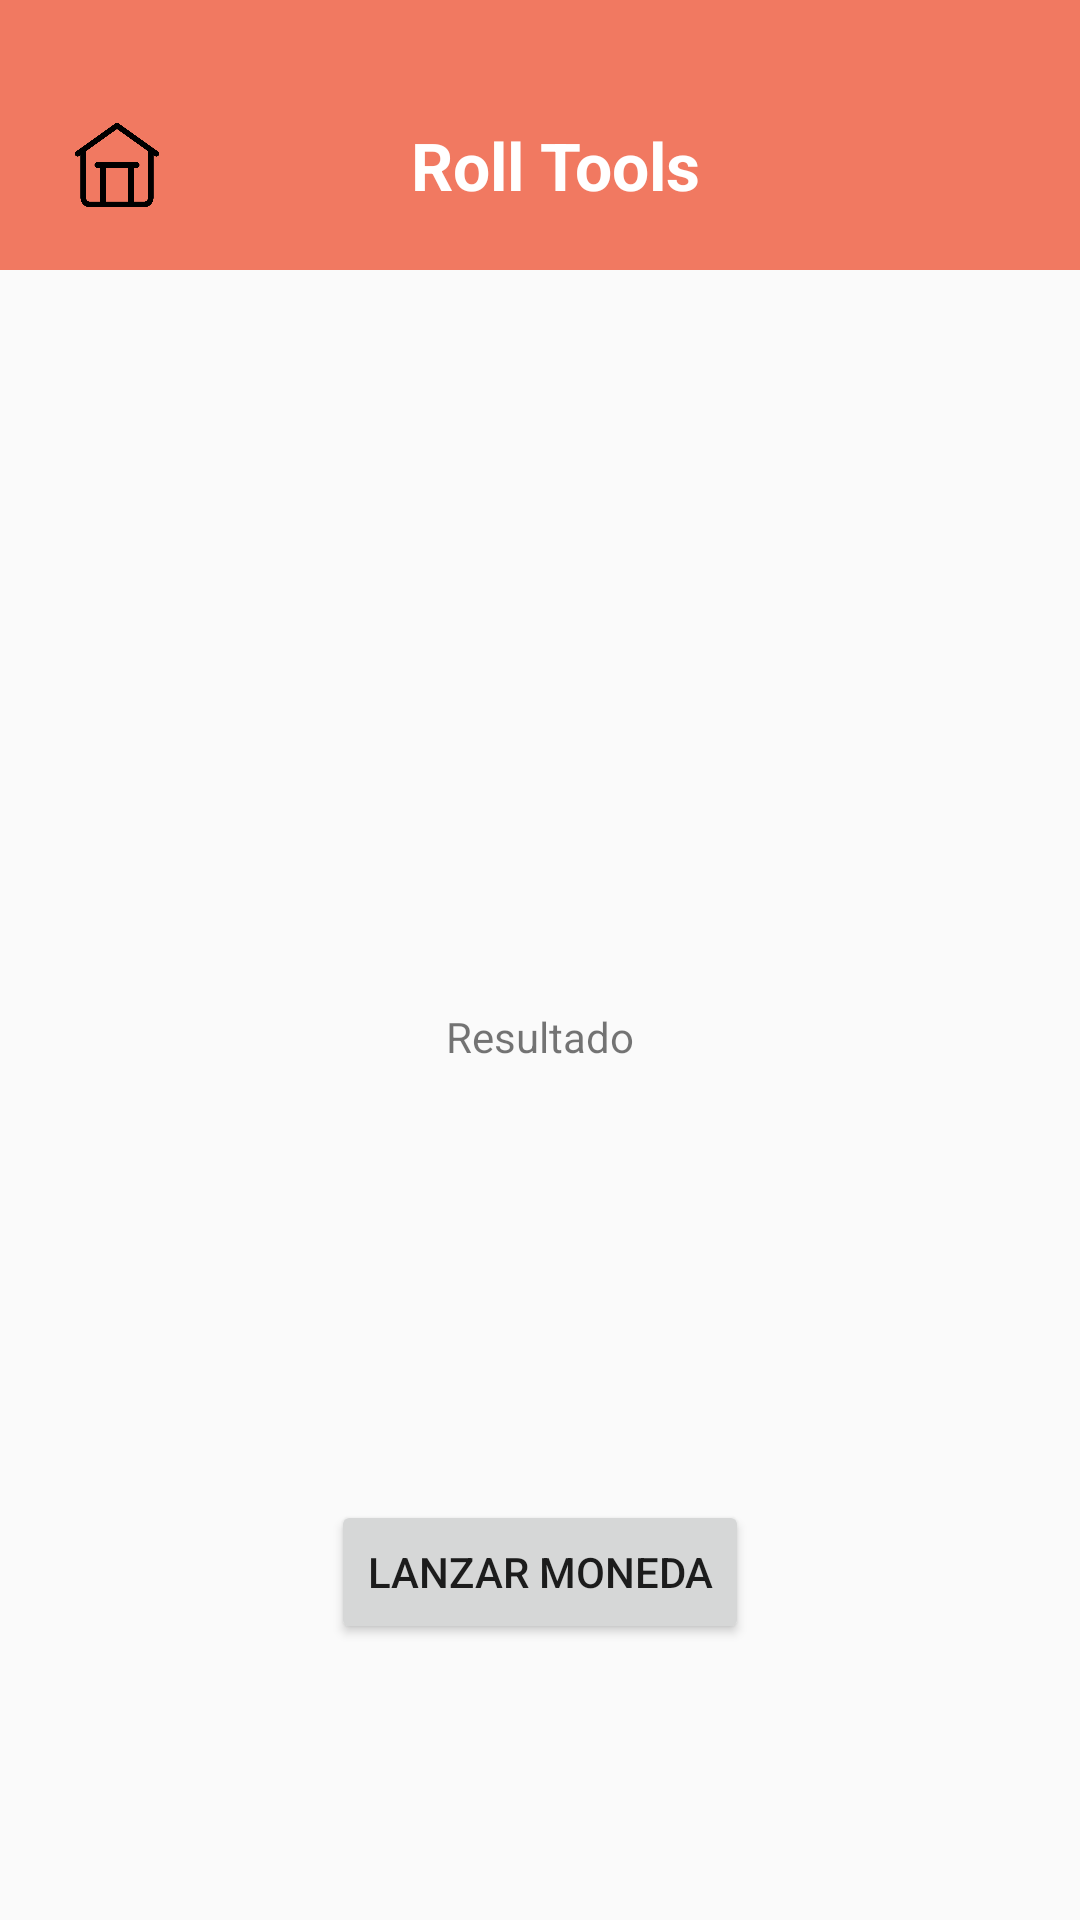

Icon click points for this 1080w x 1920h phone screenshot, format [x,y]:
casa: [117,165]
